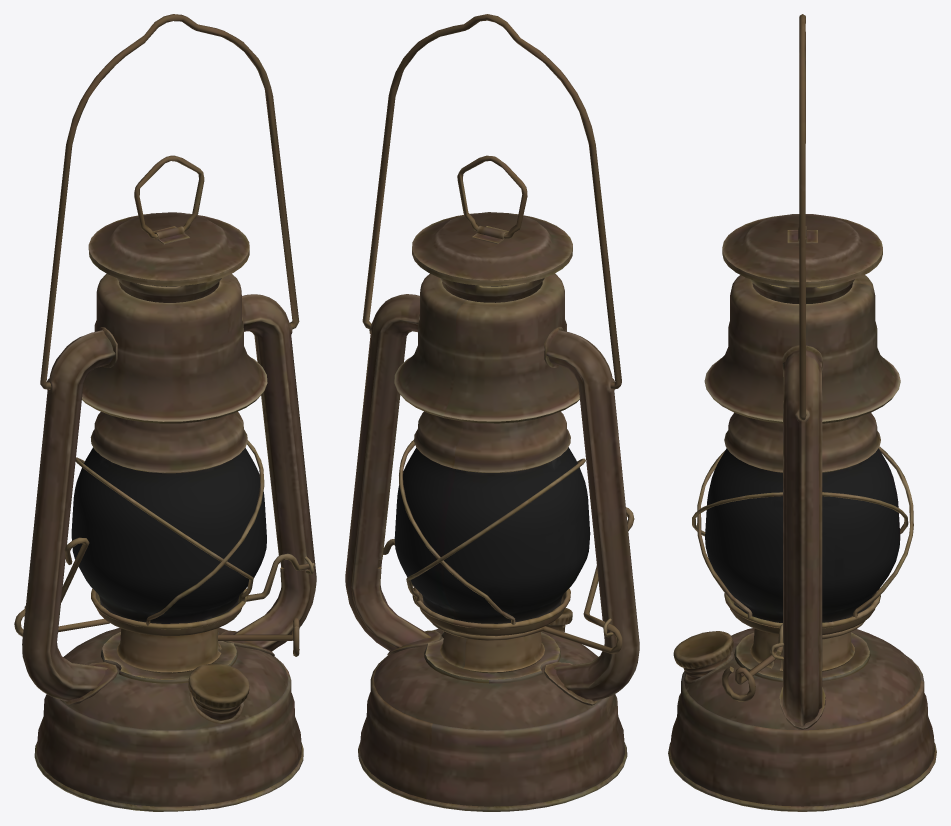
File: lantern.glb
3 renders of one model, left to right at view 1: azimuth 30°, elevation 25°; view 2: azimuth 150°, elevation 25°; view 3: azimuth 270°, elevation 25°, orthographic.
Visible parts, largest first — view 1: Lantern_01, Lantern_01_glass; view 2: Lantern_01, Lantern_01_glass; view 3: Lantern_01, Lantern_01_glass.
Boxes of the visible parts, x1,y1,x2,y2 form: Lantern_01: (14, 14, 316, 811); Lantern_01_glass: (71, 447, 266, 623); Lantern_01: (345, 14, 639, 811); Lantern_01_glass: (394, 447, 590, 623); Lantern_01: (668, 14, 936, 811); Lantern_01_glass: (705, 448, 900, 622).
Bounding box in the file's own units: 0.1221 × 0.2942 × 0.0971.
Materials: 2 (2 with a texture image).
